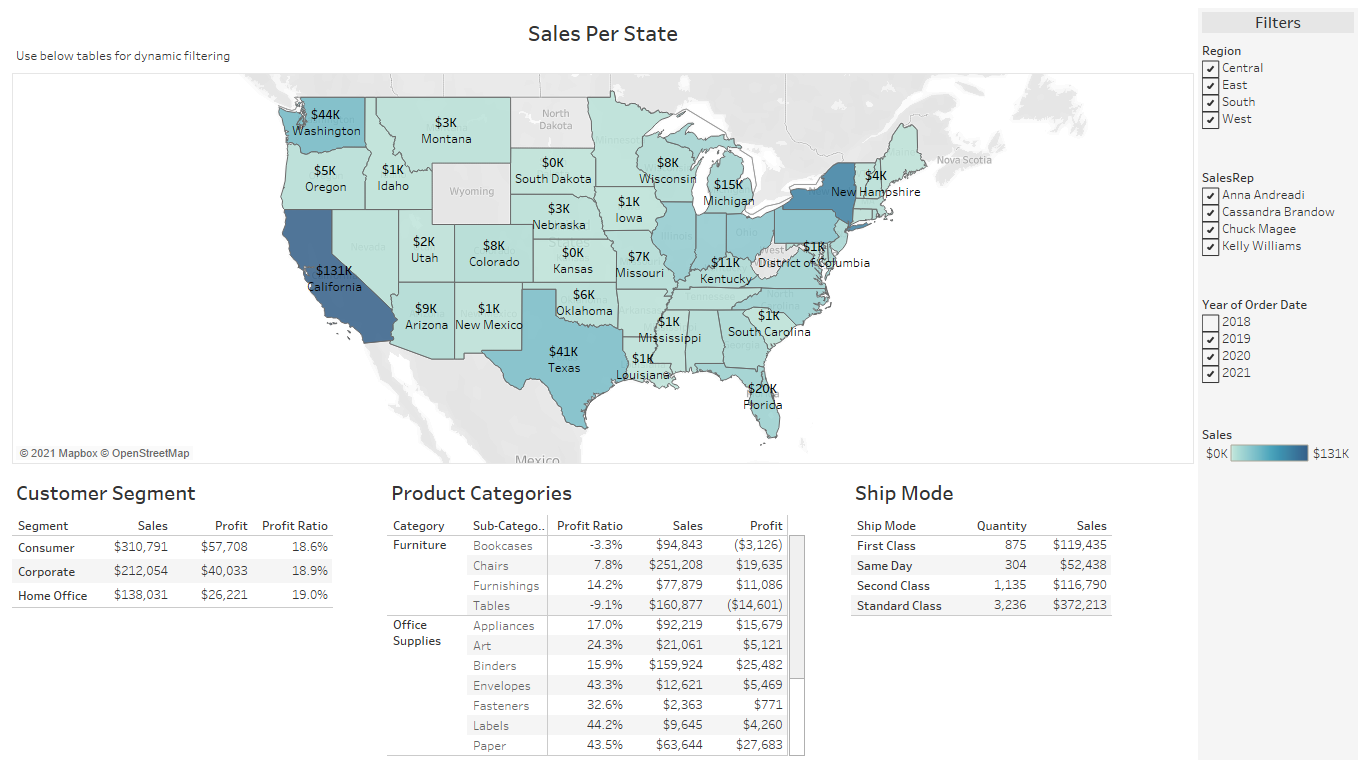

Layout of this report page (visuals, bound fields, positions):
{"tool":"tableau","page":{"name":"Dashboard 7","canvas":[1366,768],"ordinal":0},"visuals":[{"type":"worksheet","box":[0,0,1366,768]},{"type":"worksheet","param":"horz","box":[8,8,1350,752]},{"type":"worksheet","box":[8,8,1190,752]},{"type":"worksheet","title":"Map","mark":"Automatic","box":[8,8,1190,460]},{"type":"worksheet","param":"vert","box":[1198,8,160,752]},{"type":"worksheet","box":[1198,8,160,29]},{"type":"worksheet","title":"Map","mark":"Automatic","param":"[federated.10nnk8d1vgmw8q17yu76u06pnbcj].[none:Region:nk]","box":[1198,37,160,127]},{"type":"worksheet","title":"Map","mark":"Automatic","param":"[federated.10nnk8d1vgmw8q17yu76u06pnbcj].[none:Person:nk]","box":[1198,164,160,127]},{"type":"worksheet","title":"Map","mark":"Automatic","param":"[federated.10nnk8d1vgmw8q17yu76u06pnbcj].[yr:Order Date:ok]","box":[1198,291,160,127]},{"type":"worksheet","title":"Map","mark":"Automatic","param":"[federated.10nnk8d1vgmw8q17yu76u06pnbcj].[sum:Sales:qk]","box":[1198,418,160,58]},{"type":"worksheet","title":"Segments","mark":"Automatic","rows":["Segment"],"box":[8,468,375,292]},{"type":"worksheet","title":"Categories","mark":"Automatic","rows":["Category","Sub-Category"],"box":[383,468,464,292]},{"type":"worksheet","title":"Ship Mode","mark":"Automatic","rows":["Ship Mode"],"box":[847,468,351,292]}]}

Visuals, with their boxes in screenshot pixels (x1, y1, x2, y2), scaled from the page's 1366x768 canvas onto the 1366x768 screenshot:
worksheet: [0, 0, 1365, 767]
worksheet: [8, 8, 1358, 760]
worksheet: [8, 8, 1198, 760]
"Map" worksheet: [8, 8, 1198, 468]
worksheet: [1198, 8, 1358, 760]
worksheet: [1198, 8, 1358, 37]
"Map" worksheet: [1198, 37, 1358, 164]
"Map" worksheet: [1198, 164, 1358, 291]
"Map" worksheet: [1198, 291, 1358, 418]
"Map" worksheet: [1198, 418, 1358, 476]
"Segments" worksheet: [8, 468, 383, 760]
"Categories" worksheet: [383, 468, 847, 760]
"Ship Mode" worksheet: [847, 468, 1198, 760]
